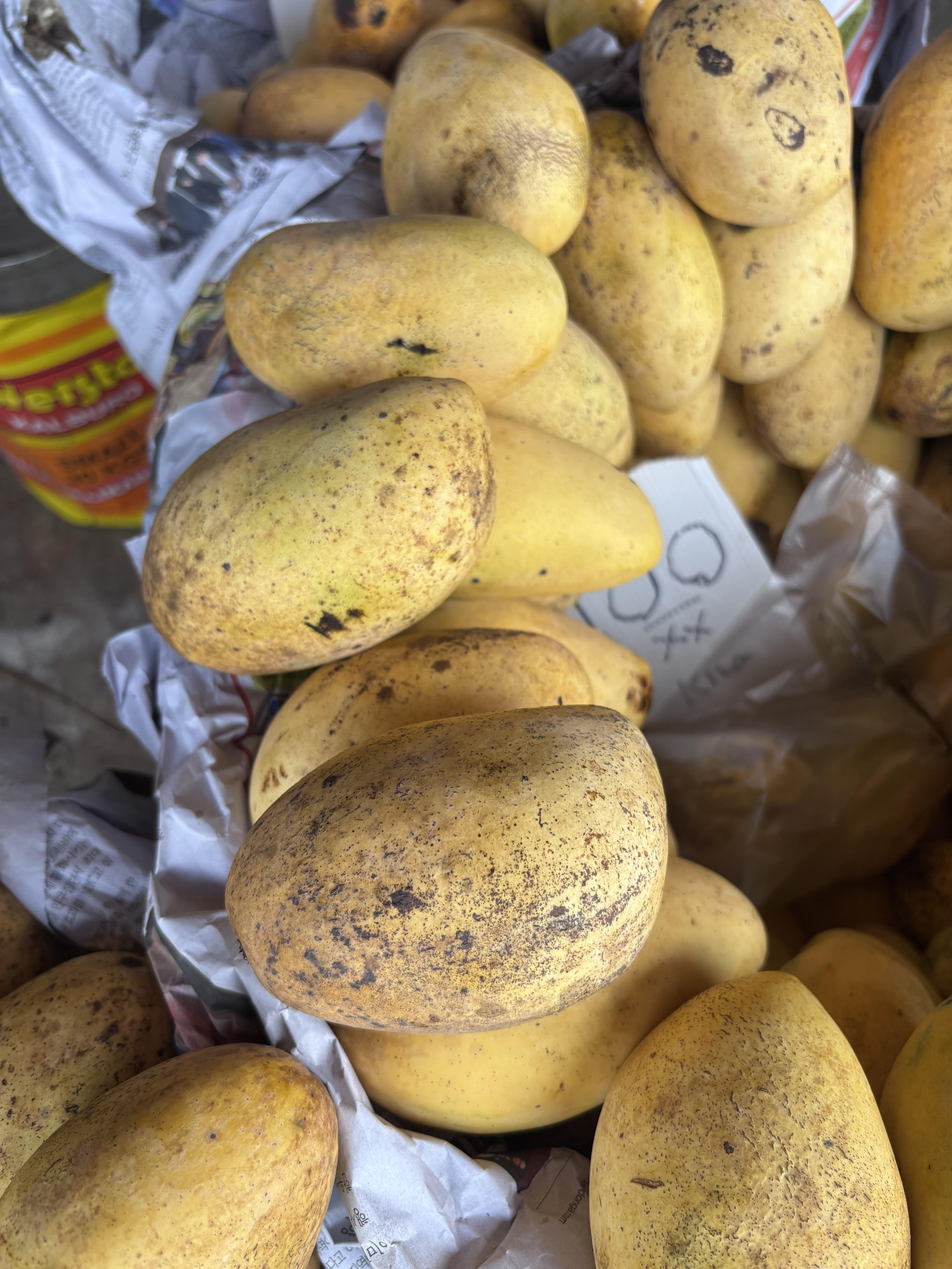mango: (227, 706, 667, 1032), (143, 377, 495, 673)
occluded: (334, 859, 766, 1135), (590, 972, 910, 1269), (0, 1044, 337, 1269), (248, 628, 594, 822), (224, 215, 566, 403), (554, 111, 723, 411), (640, 0, 851, 226), (382, 28, 589, 256), (0, 951, 174, 1193), (453, 416, 662, 600), (703, 184, 854, 383), (855, 30, 952, 332), (744, 295, 884, 470), (490, 319, 634, 466)
